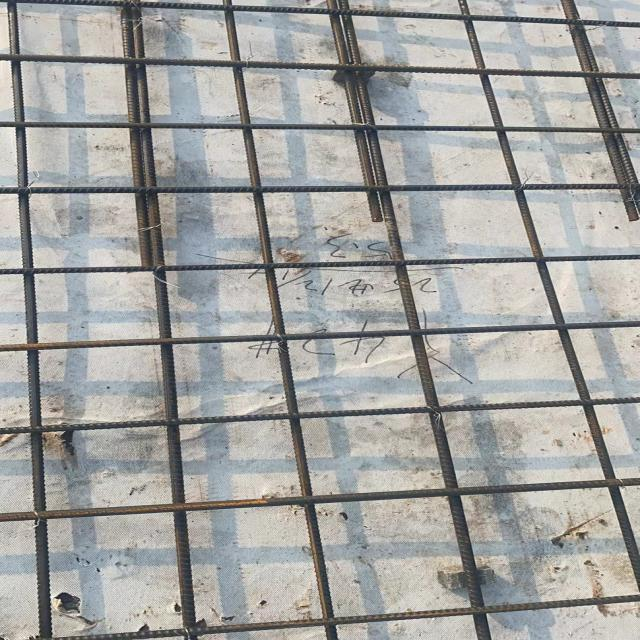ribbed bar: (455, 0, 639, 591), (325, 0, 490, 639), (220, 0, 338, 639), (120, 0, 198, 639), (0, 477, 639, 523), (5, 0, 51, 639), (59, 595, 639, 640), (0, 395, 639, 435), (0, 319, 639, 349), (558, 0, 639, 233), (0, 0, 638, 28), (0, 53, 639, 80), (0, 253, 639, 274), (0, 120, 639, 134), (0, 181, 639, 194)
